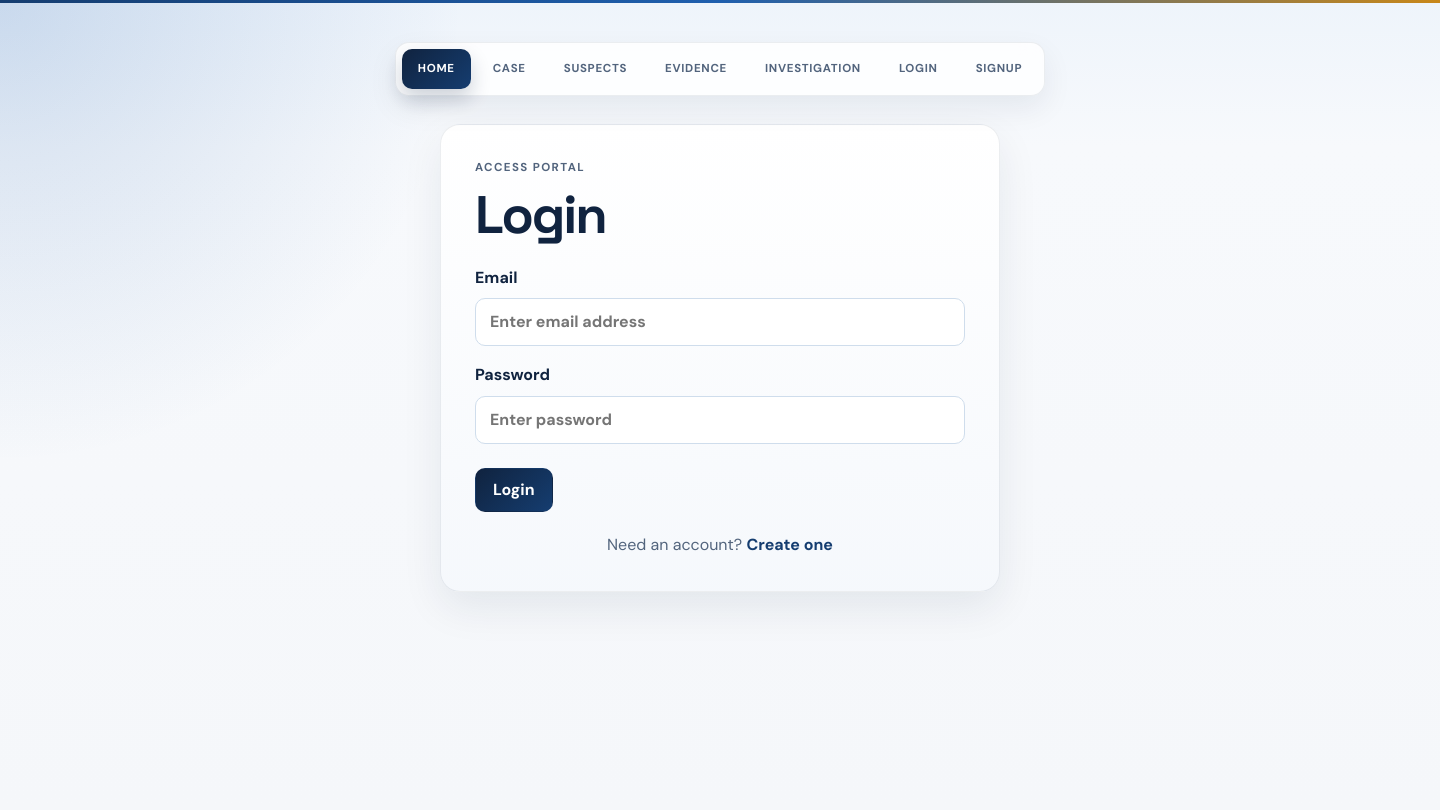
Test: Authentication pages › requires login credentials
Click the button "Login". click: coordinates (514, 490)
box: left=475, top=468, right=553, bottom=512
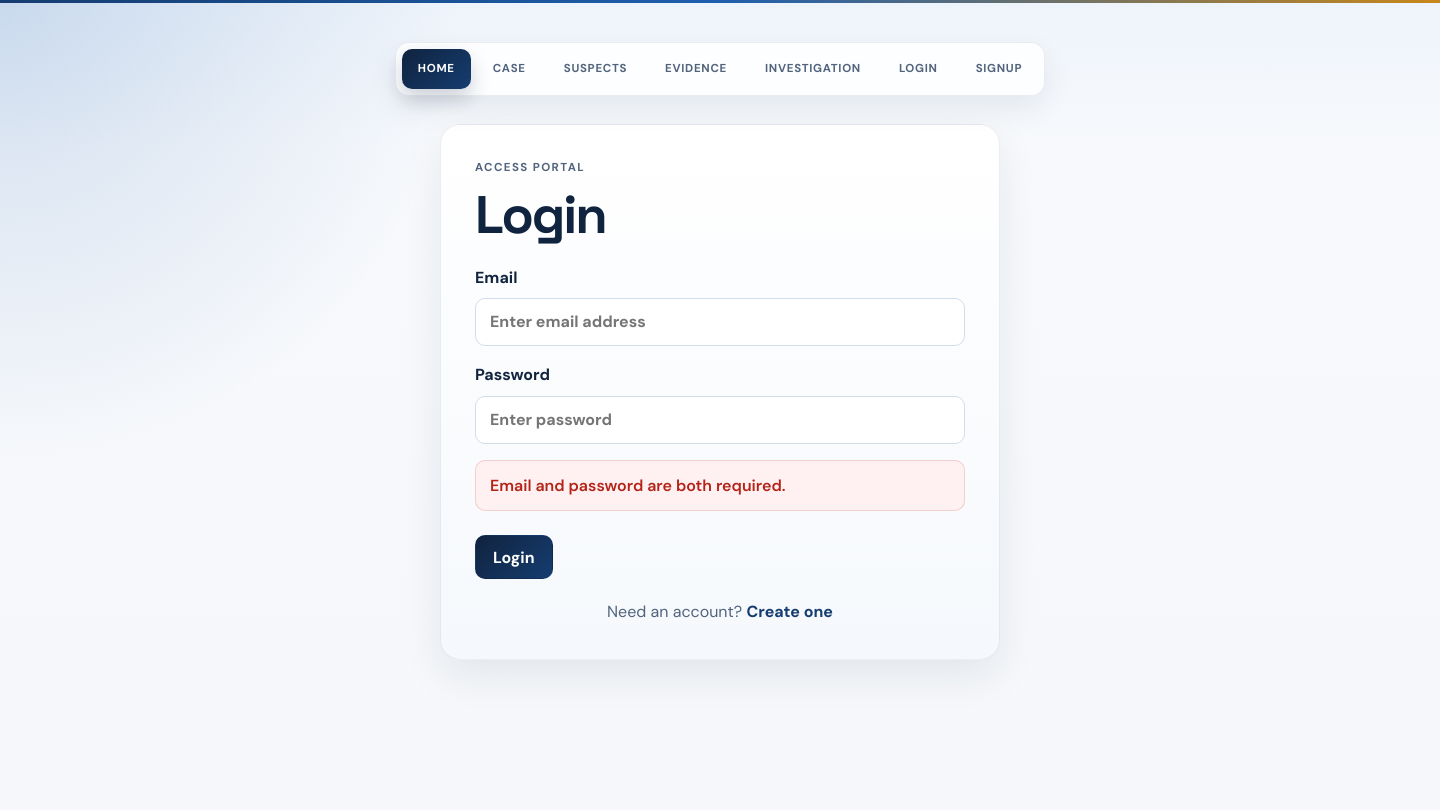
Expected: the text "Email and password are both required." is shown, left=475, top=460, right=965, bottom=511
